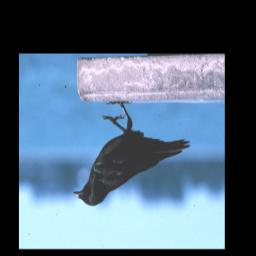Crow: (72, 99, 192, 209)
